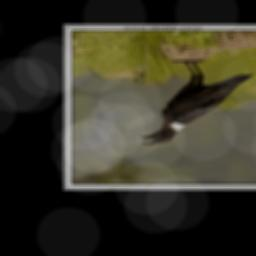Crow: (138, 58, 255, 146)
